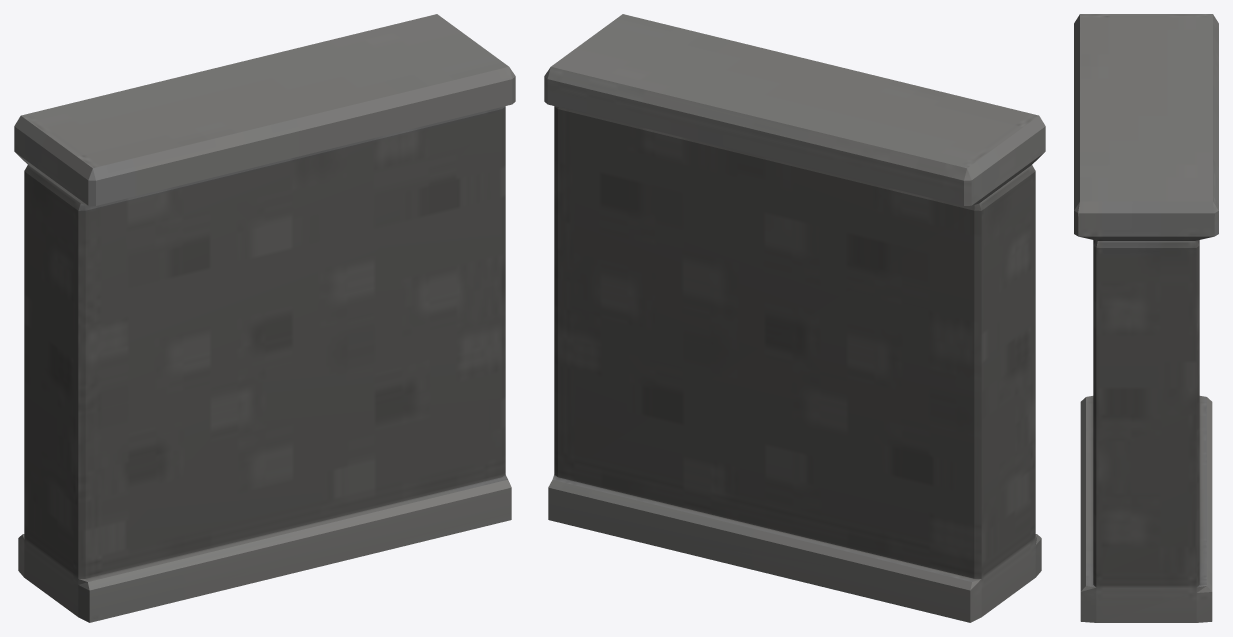
The model's file is wall_brick_high.glb.
The picture shows the model from 3 angles, left to right: view 1: azimuth 30°, elevation 25°; view 2: azimuth 150°, elevation 25°; view 3: azimuth 270°, elevation 25°; orthographic projection. The views are drawn at different scales.
Visible parts, largest first — view 1: wall_brick_high; view 2: wall_brick_high; view 3: wall_brick_high.
Boxes of the visible parts, box(x1,y1,x2,y2) form: wall_brick_high: box(14, 14, 515, 622); wall_brick_high: box(544, 14, 1045, 622); wall_brick_high: box(1074, 14, 1218, 622).
Size of the model in its own units: 1.58 by 1.6 by 0.5008.
1 material, 1 textured.
